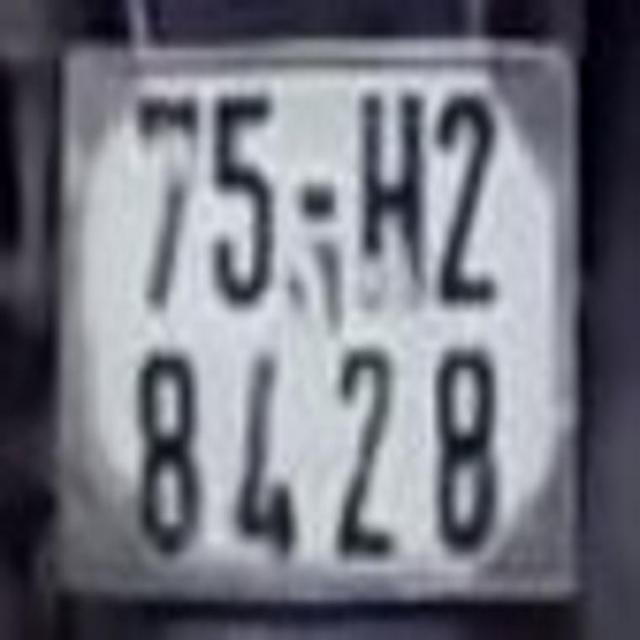2: (433, 94, 503, 302), (333, 335, 399, 555)
4: (240, 352, 299, 560)
5: (213, 99, 277, 311)
7: (132, 97, 200, 313)
8: (142, 359, 206, 556), (440, 353, 496, 553)
H: (364, 100, 424, 300)
